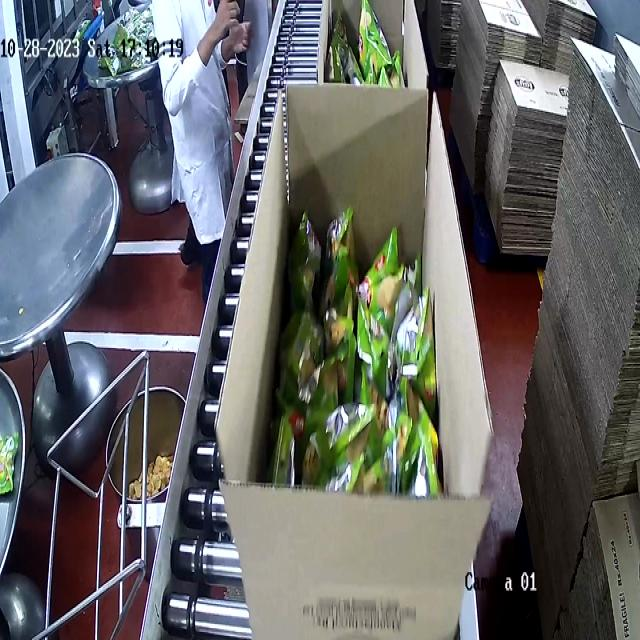YOGURT_HERB: (268, 205, 443, 496)
